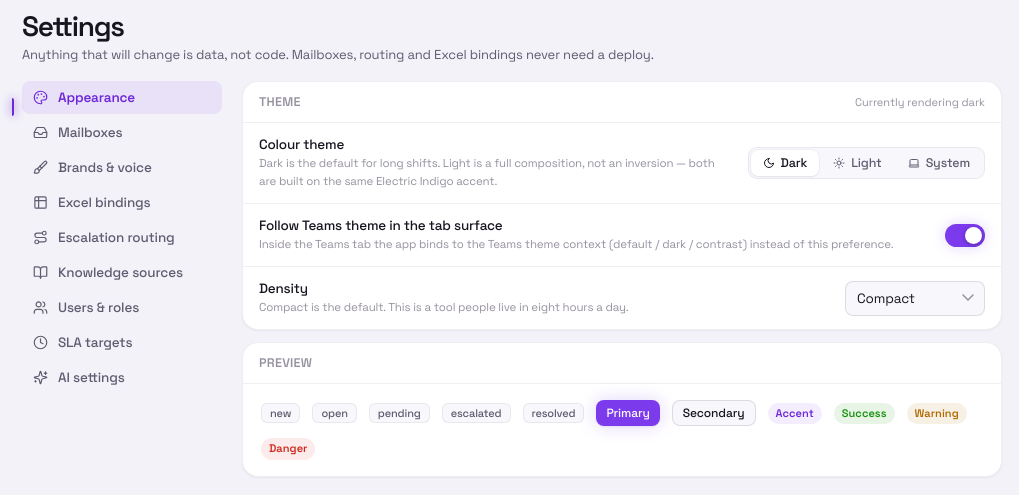
Settings screen (AD-106) › Demo mode behavior › shows demo hint in Brands section
This screenshot has width=1019, height=495.
Click the button "Brands & voice".
click(122, 168)  # box [22,151,222,184]
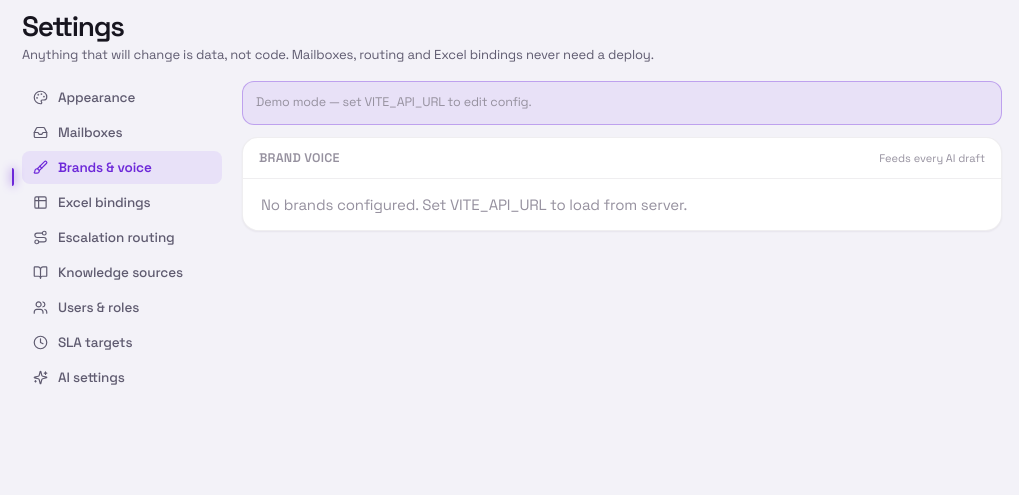
Now the text "Demo mode — set VITE_API_URL to edit config." is shown, box [256,93,532,113]
